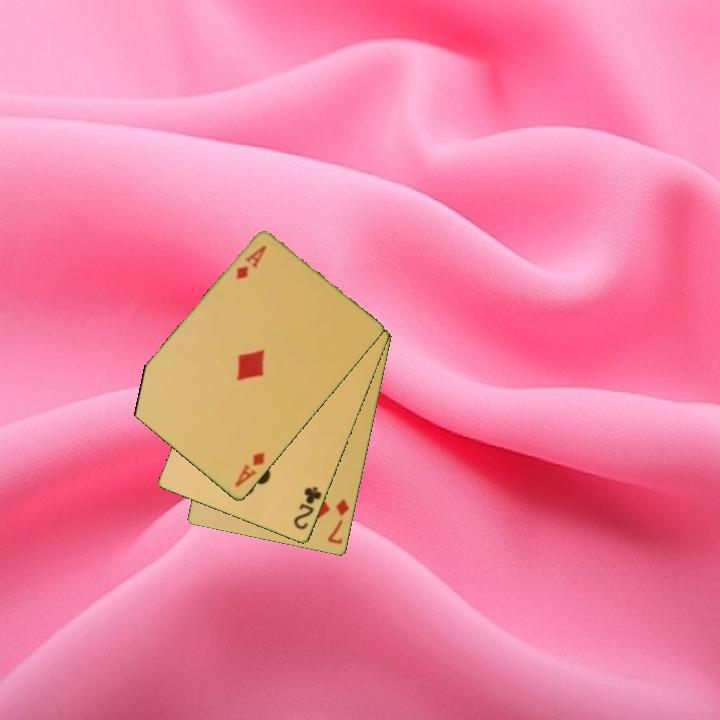2c: (290, 483, 325, 533)
7d: (324, 495, 352, 547)
Ad: (232, 242, 270, 283), (231, 449, 268, 490)
